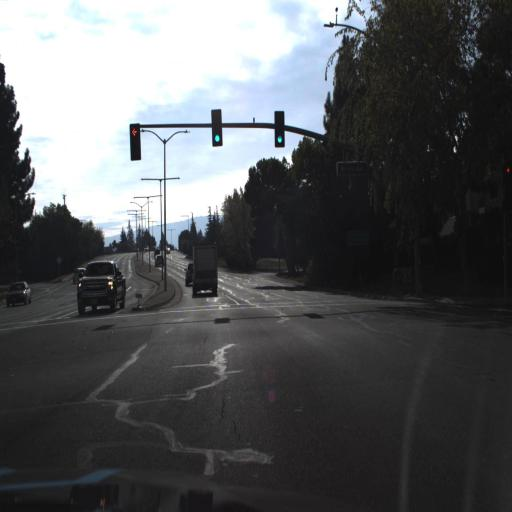car: (75, 259, 127, 316), (6, 281, 32, 308), (184, 260, 194, 288), (185, 262, 194, 288), (155, 256, 165, 270), (153, 245, 161, 255)
trafficLight: (126, 120, 143, 163)
trafficLight-Green: (210, 107, 223, 146), (274, 108, 285, 150)
trafficLight-RedLeft: (129, 120, 141, 160)
truck: (190, 242, 219, 299)
